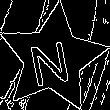N_N: (29, 30, 77, 87)
